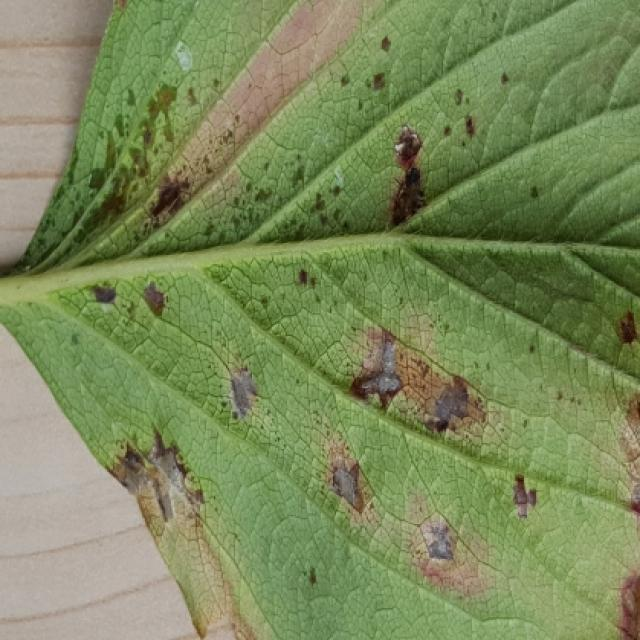Angular Leafspot: (5, 0, 638, 638)
